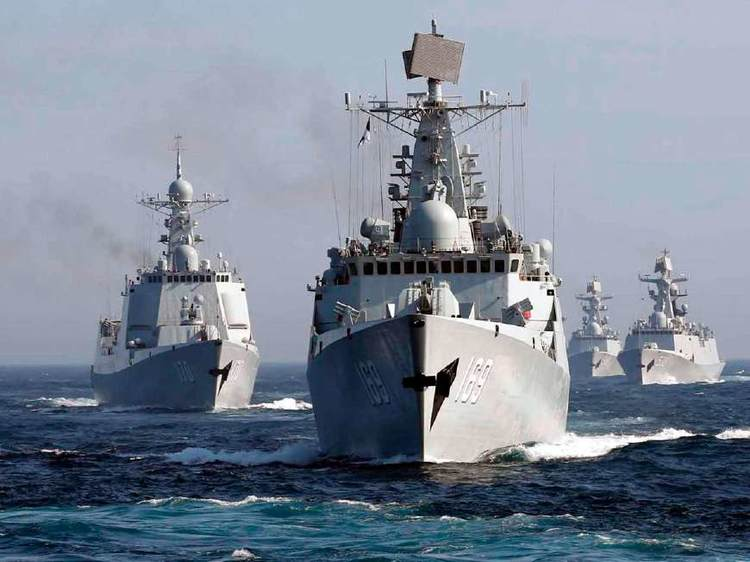warship: (300, 11, 573, 461), (84, 138, 262, 414), (621, 242, 729, 387), (562, 277, 633, 378)
